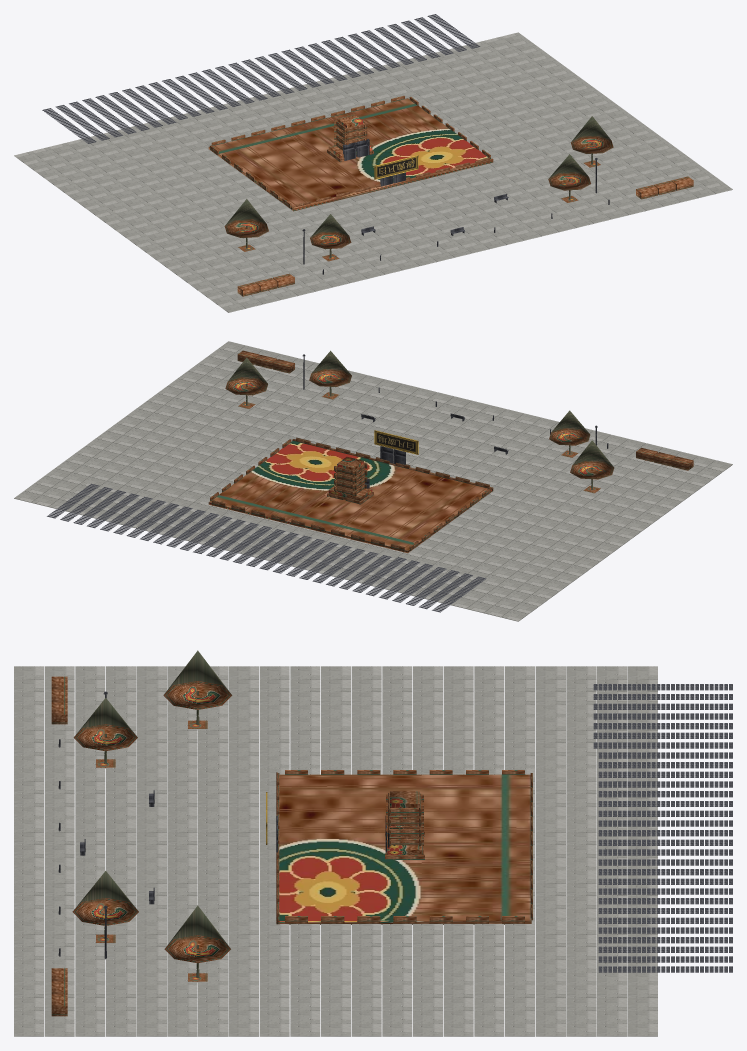
3 views of the same model, one above another, from view 1: azimuth 30°, elevation 25°; view 2: azimuth 150°, elevation 25°; view 3: azimuth 270°, elevation 25° (orthographic). The views are drawn at different scales.
Parts seen in each view (by area): view 1: 11140_02_04626_024_01__plinth_ground_base, 11140_02_04626_024_02__mass_body_facade, 11140_02_04626_024_03__roof_deck_structure, 11140_02_04626_024_06__landscape_greenery, 11140_02_04626_024_05__door_hardware_iron, 11140_02_04626_024_05__window_sash_glass, 11140_02_04626_024_04__sign_board; view 2: 11140_02_04626_024_01__plinth_ground_base, 11140_02_04626_024_02__mass_body_facade, 11140_02_04626_024_03__roof_deck_structure, 11140_02_04626_024_06__landscape_greenery, 11140_02_04626_024_05__door_hardware_iron, 11140_02_04626_024_04__sign_board; view 3: 11140_02_04626_024_01__plinth_ground_base, 11140_02_04626_024_02__mass_body_facade, 11140_02_04626_024_03__roof_deck_structure, 11140_02_04626_024_06__landscape_greenery, 11140_02_04626_024_05__door_hardware_iron.
Part boxes in pixels (x1,y1,x2,y2): 11140_02_04626_024_01__plinth_ground_base: (14,32,732,312); 11140_02_04626_024_02__mass_body_facade: (208,96,493,211); 11140_02_04626_024_03__roof_deck_structure: (42,14,480,143); 11140_02_04626_024_06__landscape_greenery: (224,116,693,296); 11140_02_04626_024_05__door_hardware_iron: (302,139,609,274); 11140_02_04626_024_05__window_sash_glass: (296,123,489,206); 11140_02_04626_024_04__sign_board: (375,156,417,178); 11140_02_04626_024_01__plinth_ground_base: (14,341,732,621); 11140_02_04626_024_02__mass_body_facade: (208,438,493,553); 11140_02_04626_024_03__roof_deck_structure: (47,483,486,612); 11140_02_04626_024_06__landscape_greenery: (225,350,693,493); 11140_02_04626_024_05__door_hardware_iron: (302,354,608,488); 11140_02_04626_024_04__sign_board: (375,431,417,453); 11140_02_04626_024_01__plinth_ground_base: (14,666,657,1036); 11140_02_04626_024_02__mass_body_facade: (276,770,532,924); 11140_02_04626_024_03__roof_deck_structure: (593,684,732,972); 11140_02_04626_024_06__landscape_greenery: (51,650,232,1016); 11140_02_04626_024_05__door_hardware_iron: (58,691,389,959).
Size of the model in its own units: 75.95 by 7.2 by 62.47.
Materials: 7 (7 with a texture image).
